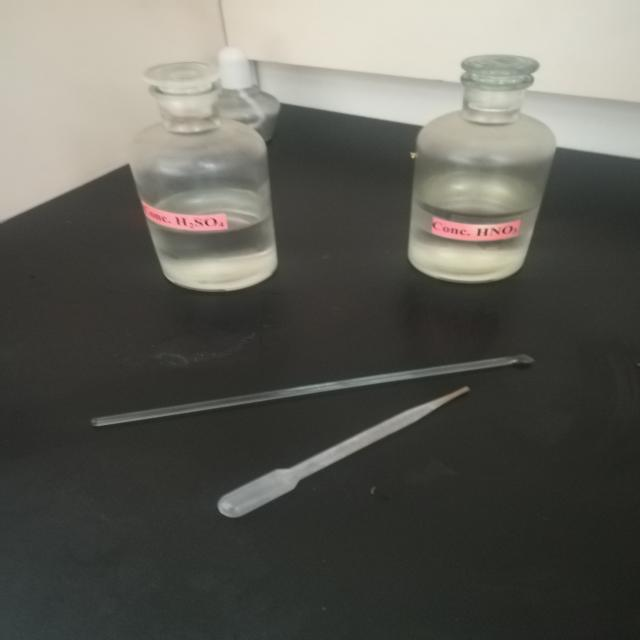Glass_Rod: (70, 342, 544, 439)
Pipette: (198, 389, 594, 537)
